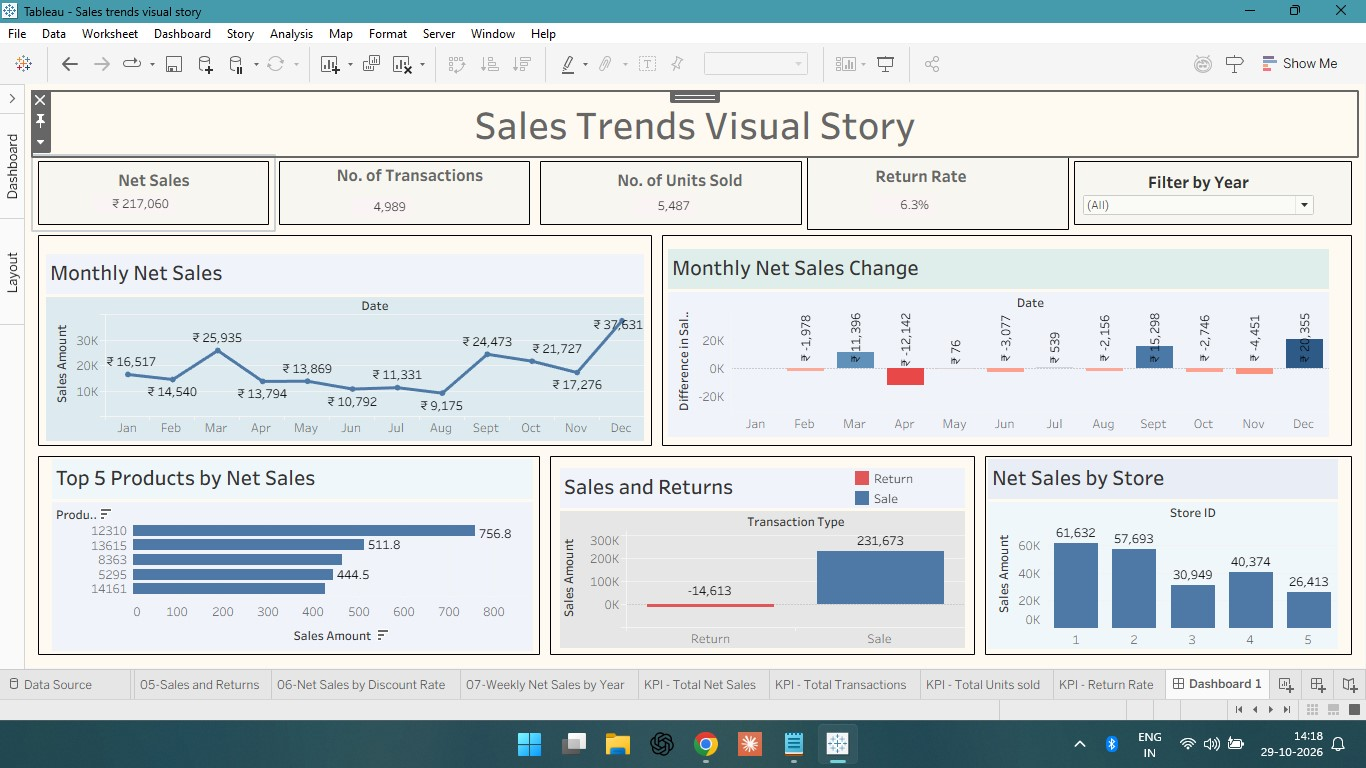

This screenshot's page, from the dashboard's own definition file:
{"tool":"tableau","page":{"name":"Dashboard 1","canvas":[1000,1000],"units":"permille","ordinal":0},"visuals":[{"type":"title","box":[6,13.7,988.1,109.6]},{"type":"text","box":[618.2,128.4,101.3,56.5]},{"type":"text","box":[419.9,135.3,137.7,56.5]},{"type":"text","box":[43.3,137,105.6,53.1]},{"type":"text","box":[219.9,137,134.2,37.7]},{"type":"filter","title":"01- Monthly net sales","param":"[federated.0i2l3rt11c8gmk1f711361co0cax].[yr:Date:ok]","box":[787,149,176.6,78.8]},{"type":"worksheet","title":"KPI - Total Net Sales","mark":"Automatic","box":[51.1,188.4,84,46.2]},{"type":"worksheet","title":"KPI - Return Rate","mark":"Automatic","box":[632.9,190.1,95.2,44.5]},{"type":"worksheet","title":"KPI - Total Units sold","mark":"Automatic","box":[454.6,191.8,81.4,34.2]},{"type":"worksheet","title":"KPI - Total Transactions","mark":"Automatic","box":[242.4,193.5,88.3,39.4]},{"type":"worksheet","title":"02-Monthly sales change","mark":"Bar","rows":["Sales Amount"],"cols":["Date"],"box":[479.9,282.5,493.3,321.9]},{"type":"worksheet","title":"01- Monthly net sales","mark":"Automatic","rows":["Sales Amount"],"cols":["Date"],"box":[15.7,291.1,446.4,320.2]},{"type":"worksheet","title":"03 - Top 10 Products by Net Sales.","mark":"Automatic","rows":["Product ID"],"cols":["Sales Amount"],"box":[20.1,642.1,359.2,328.8]},{"type":"worksheet","title":"04 - Net Sales by Store","mark":"Bar","rows":["Sales Amount"],"cols":["Store ID"],"box":[718.4,642.1,261.6,325.3]},{"type":"worksheet","title":"05-Sales and Returns","mark":"Automatic","rows":["Sales Amount"],"cols":["Transaction Type"],"box":[399.3,657.5,302.5,308.2]},{"type":"legend","title":"05-Sales and Returns","param":"[federated.0i2l3rt11c8gmk1f711361co0cax].[none:Transaction Type:nk]","box":[617.3,657.5,70.6,68.5]}]}

Visuals, with their boxes on the dashboard's canvas, which has no fixed pixel size, in thousandths of its width and height (x1, y1, x2, y2). These are canvas units, not pixel positions in the 1366x768 screenshot, which may show the page scaled, cropped or inside an application window:
title: region(6, 14, 994, 123)
text: region(618, 128, 720, 185)
text: region(420, 135, 558, 192)
text: region(43, 137, 149, 190)
text: region(220, 137, 354, 175)
"01- Monthly net sales" filter: region(787, 149, 964, 228)
"KPI - Total Net Sales" worksheet: region(51, 188, 135, 235)
"KPI - Return Rate" worksheet: region(633, 190, 728, 235)
"KPI - Total Units sold" worksheet: region(455, 192, 536, 226)
"KPI - Total Transactions" worksheet: region(242, 194, 331, 233)
"02-Monthly sales change" worksheet (Bar marks): region(480, 282, 973, 604)
"01- Monthly net sales" worksheet: region(16, 291, 462, 611)
"03 - Top 10 Products by Net Sales." worksheet: region(20, 642, 379, 971)
"04 - Net Sales by Store" worksheet (Bar marks): region(718, 642, 980, 967)
"05-Sales and Returns" worksheet: region(399, 658, 702, 966)
"05-Sales and Returns" legend: region(617, 658, 688, 726)
